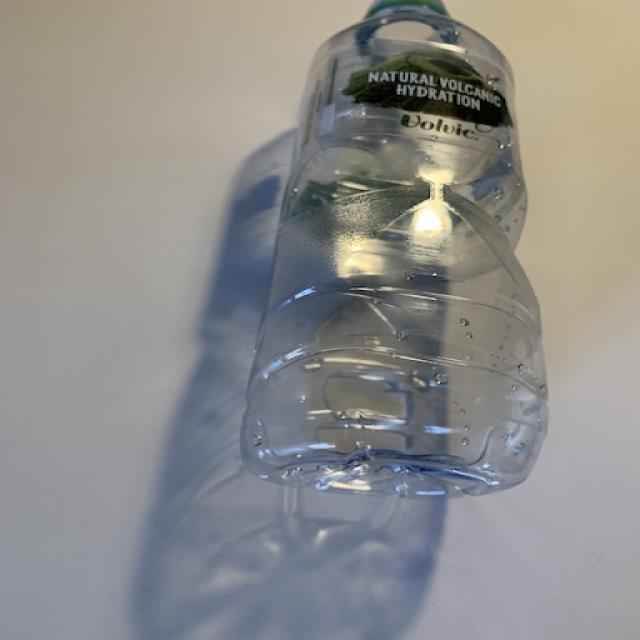Waste: (243, 0, 548, 497)
